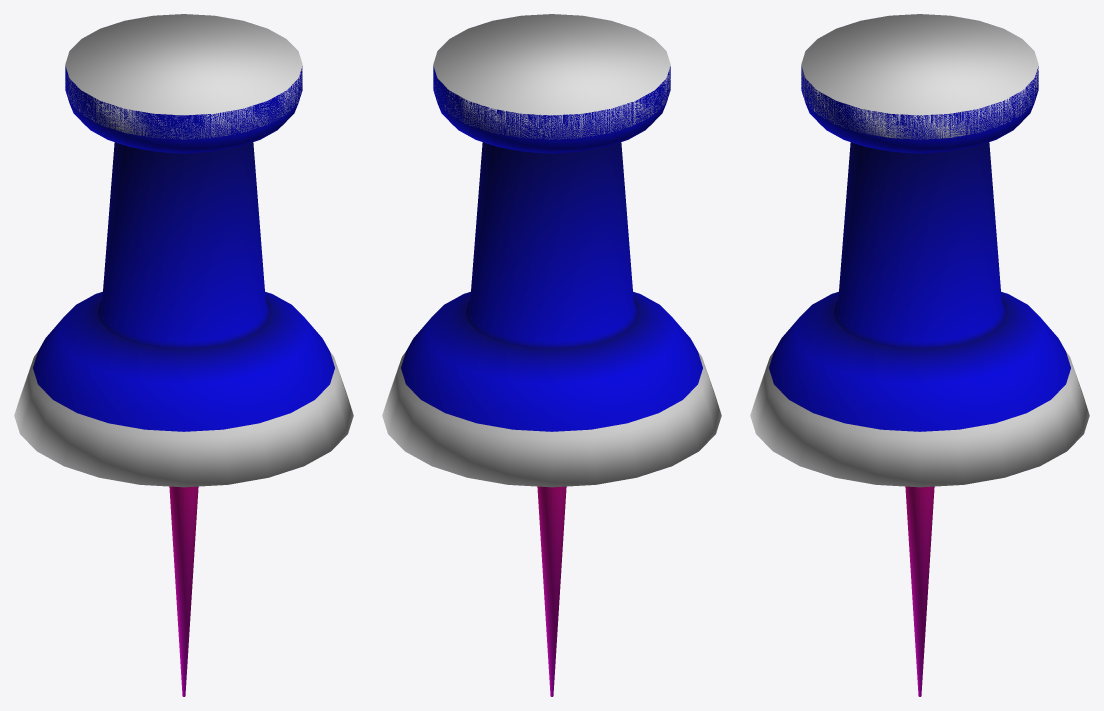
Rendered from Thumb Tack.dae.
The picture shows the model from 3 angles, left to right: view 1: azimuth 30°, elevation 25°; view 2: azimuth 150°, elevation 25°; view 3: azimuth 270°, elevation 25°; orthographic projection.
Visible parts, largest first — view 1: Thumb_Tack, Top_COL, END_COL; view 2: Thumb_Tack, Top_COL, END_COL; view 3: Thumb_Tack, Top_COL, END_COL.
Boxes of the visible parts, box(x1,y1,x2,y2) form: Thumb_Tack: box(33, 66, 334, 696); Top_COL: box(65, 14, 302, 139); END_COL: box(14, 352, 353, 487); Thumb_Tack: box(401, 66, 702, 696); Top_COL: box(433, 14, 670, 139); END_COL: box(382, 352, 721, 487); Thumb_Tack: box(769, 66, 1070, 696); Top_COL: box(801, 14, 1038, 139); END_COL: box(750, 352, 1089, 487).
Size of the model in its own units: 1.47 by 1.47 by 3.02.
